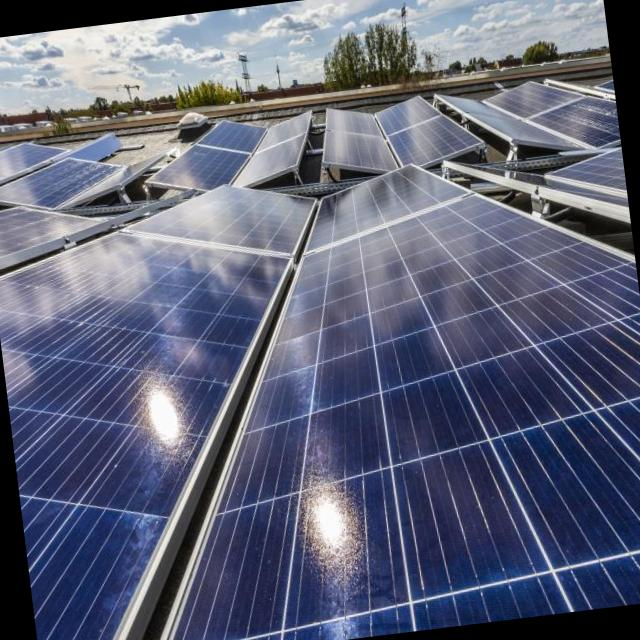faulty: (0, 158, 117, 210), (533, 96, 618, 144)
no faulty: (169, 197, 640, 640), (0, 228, 289, 640), (307, 164, 462, 251), (137, 186, 312, 250), (389, 117, 478, 164), (152, 145, 247, 189), (237, 138, 301, 185), (326, 134, 396, 165)
